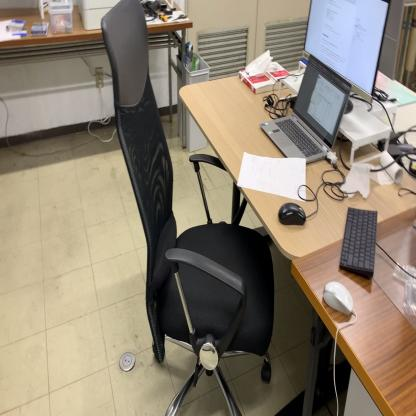chair: (101, 0, 276, 414)
